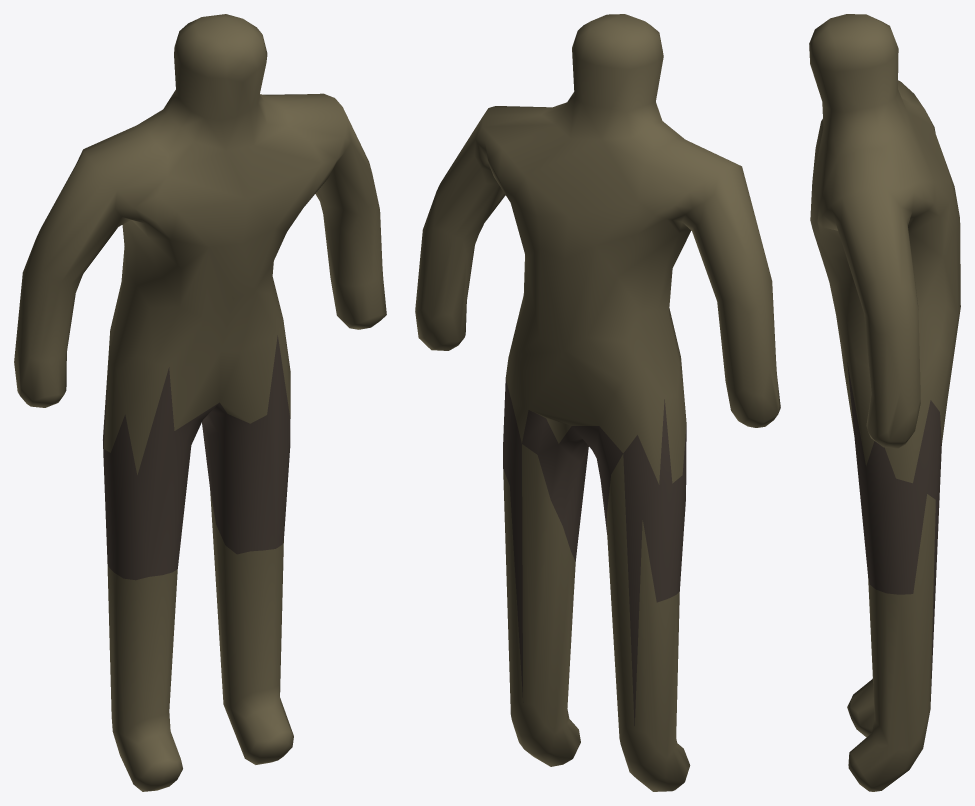
Rendered from enm_goblin_brute.glb.
The picture shows the model from 3 angles, left to right: view 1: azimuth 30°, elevation 25°; view 2: azimuth 150°, elevation 25°; view 3: azimuth 270°, elevation 25°; orthographic projection. The views are drawn at different scales.
Visible parts, largest first — view 1: enm_goblin_brute; view 2: enm_goblin_brute; view 3: enm_goblin_brute.
Part boxes in pixels (left/top/right/bottom): enm_goblin_brute: left=14, top=14, right=386, bottom=791; enm_goblin_brute: left=415, top=14, right=780, bottom=791; enm_goblin_brute: left=809, top=14, right=960, bottom=791.
Bounding box in the file's own units: 0.6914 × 1.39 × 0.2567.
